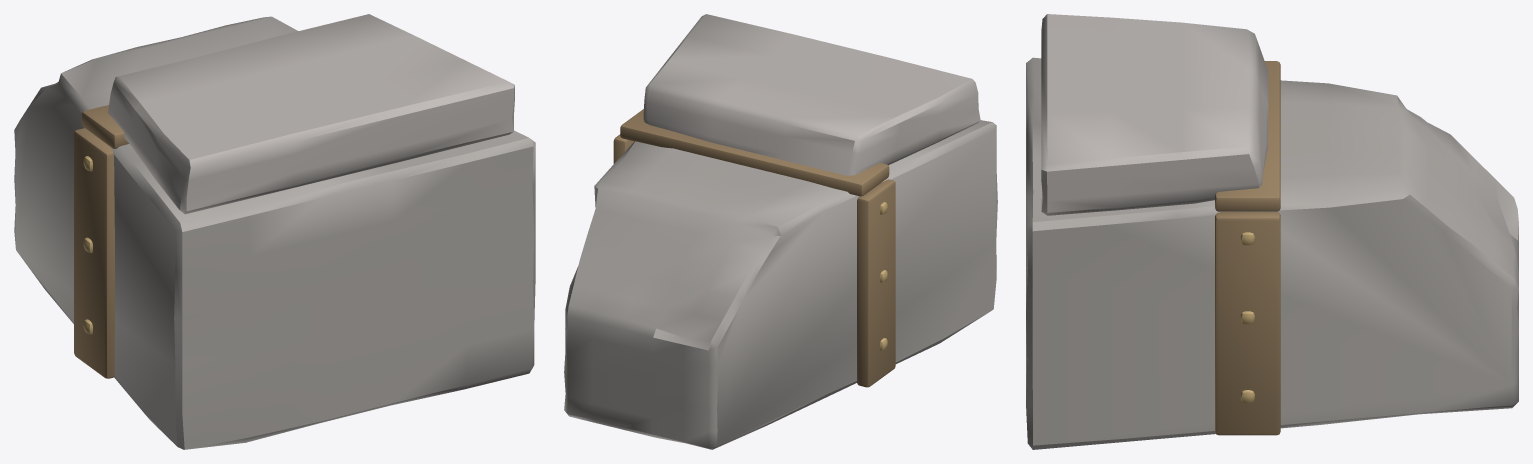
File: SM_Area2_RimTooth_Big_C.glb
3 views of the same model, side by side, from view 1: azimuth 30°, elevation 25°; view 2: azimuth 150°, elevation 25°; view 3: azimuth 270°, elevation 25° (orthographic). The views are drawn at different scales.
Parts seen in each view (by area): view 1: SM_Area2_RimTooth_Big_C; view 2: SM_Area2_RimTooth_Big_C; view 3: SM_Area2_RimTooth_Big_C.
Boxes of the visible parts, bbox=[...] form: SM_Area2_RimTooth_Big_C: bbox=[14, 14, 535, 449]; SM_Area2_RimTooth_Big_C: bbox=[564, 14, 997, 449]; SM_Area2_RimTooth_Big_C: bbox=[1026, 14, 1518, 449].
Bounding box in the file's own units: 2.09 × 1.6 × 2.55.
